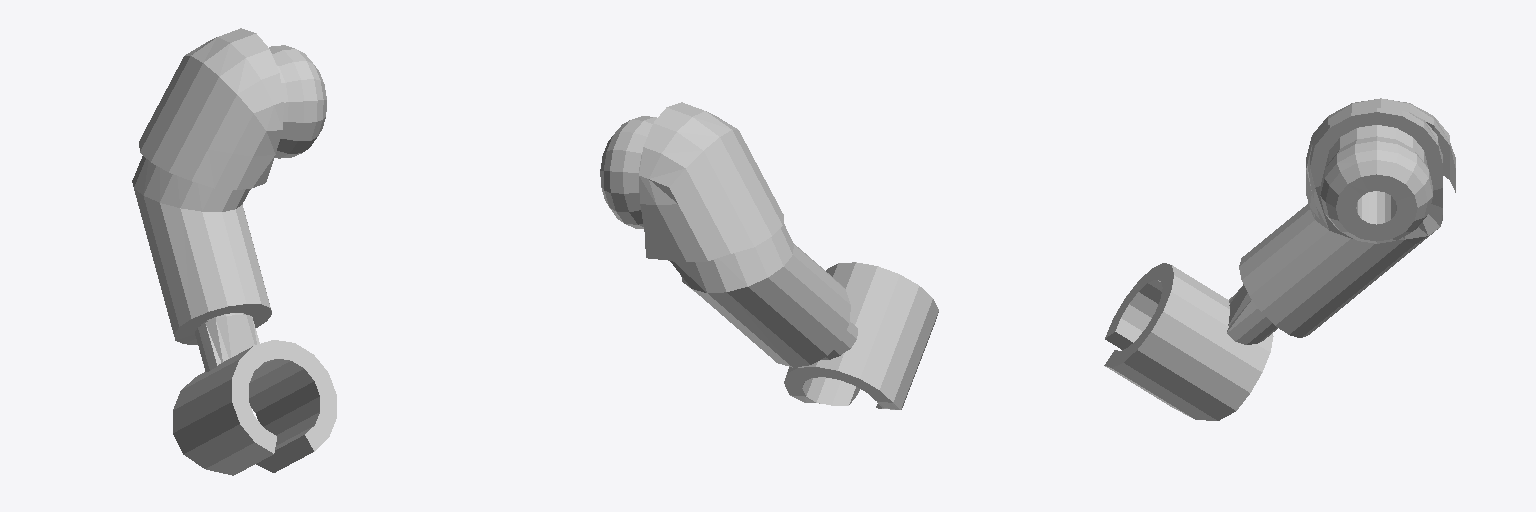
Rendered from rHand.obj.
3 renders of one model, left to right at view 1: azimuth 30°, elevation 25°; view 2: azimuth 150°, elevation 25°; view 3: azimuth 270°, elevation 25°, orthographic.
Visible parts, largest first — view 1: rHand2:pasted__pasted__rhand10; view 2: rHand2:pasted__pasted__rhand10; view 3: rHand2:pasted__pasted__rhand10.
Part boxes in pixels (x1,y1,x2,y2): rHand2:pasted__pasted__rhand10: (132,28,336,475); rHand2:pasted__pasted__rhand10: (600,102,938,409); rHand2:pasted__pasted__rhand10: (1104,98,1455,420).
Size of the model in its own units: 1.46 by 2.31 by 2.13.